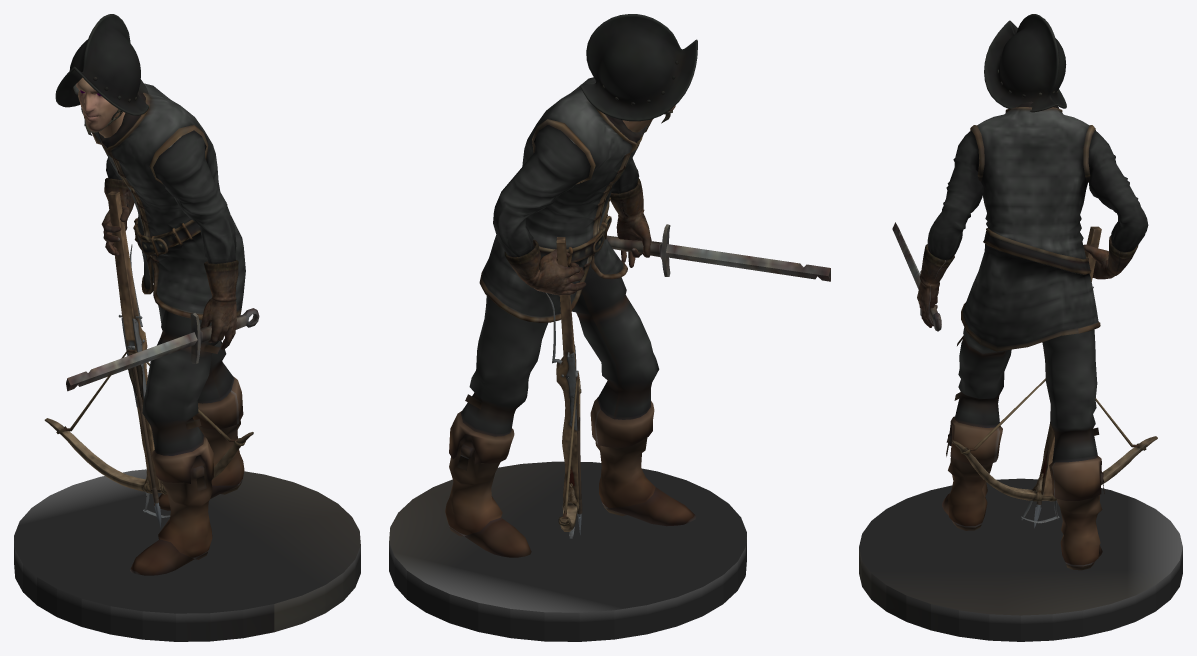
3 renders of one model, left to right at view 1: azimuth 30°, elevation 25°; view 2: azimuth 150°, elevation 25°; view 3: azimuth 270°, elevation 25°, orthographic. The views are drawn at different scales.
Parts seen in each view (by area): view 1: male_01_gatekeeper_light_body.smd; view 2: male_01_gatekeeper_light_body.smd; view 3: male_01_gatekeeper_light_body.smd.
Part boxes in pixels (x1=…): male_01_gatekeeper_light_body.smd: x1=14, y1=14, x2=360, y2=641; male_01_gatekeeper_light_body.smd: x1=389, y1=14, x2=830, y2=641; male_01_gatekeeper_light_body.smd: x1=859, y1=14, x2=1182, y2=641.
Bounding box in the file's own units: 1.12 × 1.78 × 1.
1 material, 1 textured.
